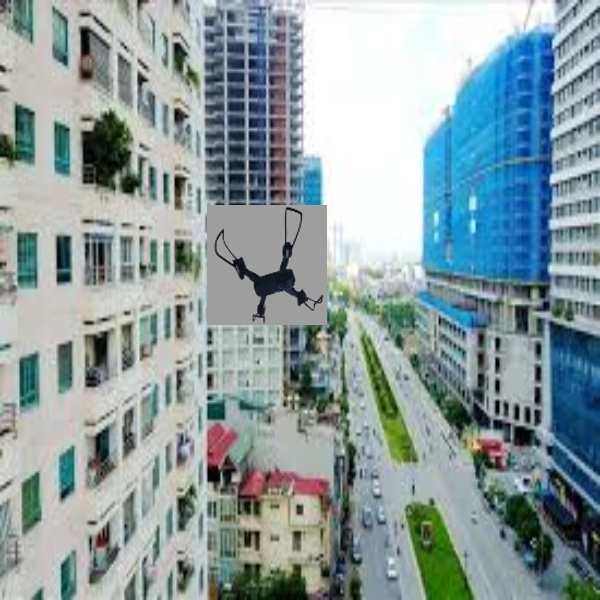drone: (213, 201, 325, 322)
